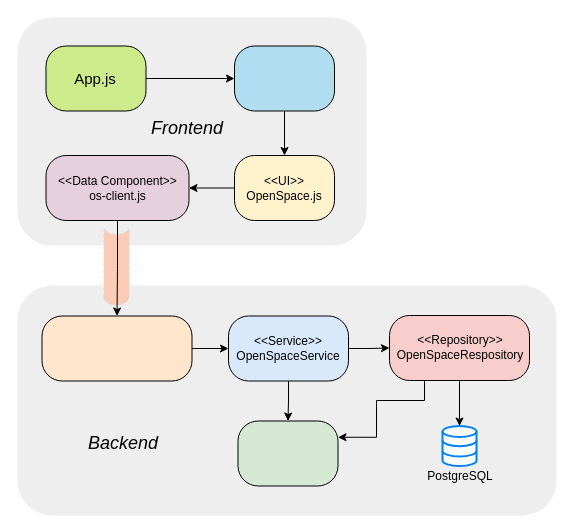
Image size: 573x532. Some labels were removed from this diagram. The shapes that lost their labels are listed below. From the top down, each one's box as (x1, y1, x2, y2) in pixels, then its label:
(234, 45, 334, 111): <<Router>> Routes
(41, 315, 192, 381): <<Controller>> OpenSpaceController
(237, 420, 338, 486): <<Model>> OpenSpace
